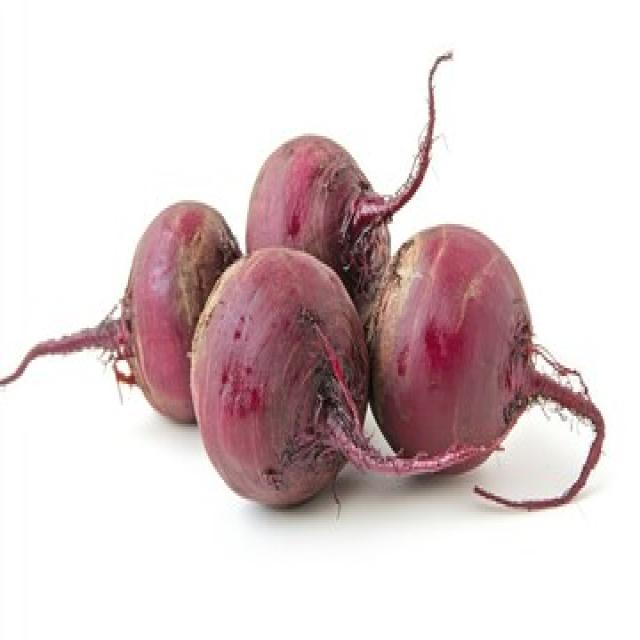Beetroot: (0, 48, 604, 514), (364, 219, 604, 509), (244, 48, 454, 328), (0, 197, 242, 424)
